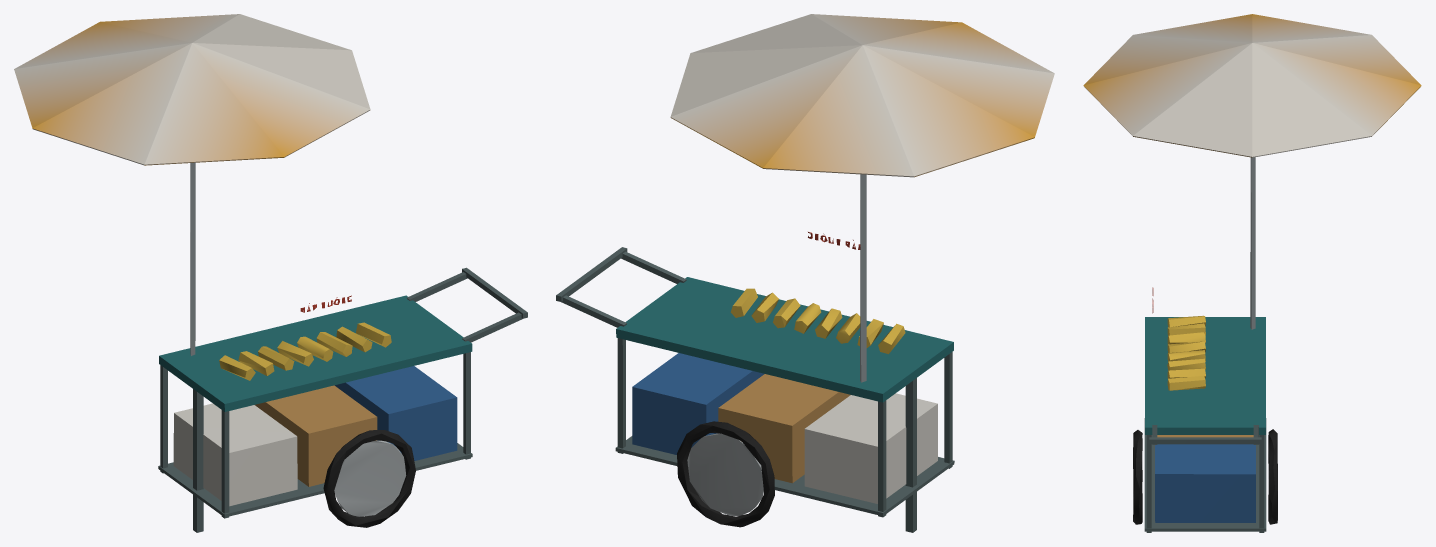
The model's file is xe_day.glb.
3 renders of one model, left to right at view 1: azimuth 30°, elevation 25°; view 2: azimuth 150°, elevation 25°; view 3: azimuth 270°, elevation 25°, orthographic. The views are drawn at different scales.
Parts seen in each view (by area): view 1: xe_day; view 2: xe_day; view 3: xe_day.
Part boxes in pixels (left/top/right/bottom): xe_day: left=14, top=14, right=527, bottom=532; xe_day: left=556, top=14, right=1054, bottom=532; xe_day: left=1083, top=14, right=1421, bottom=532.
Size of the model in its own units: 2.47 by 2.51 by 1.8.
